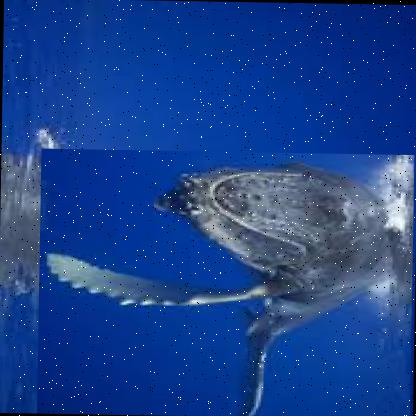blue_whale: (36, 146, 415, 415)
